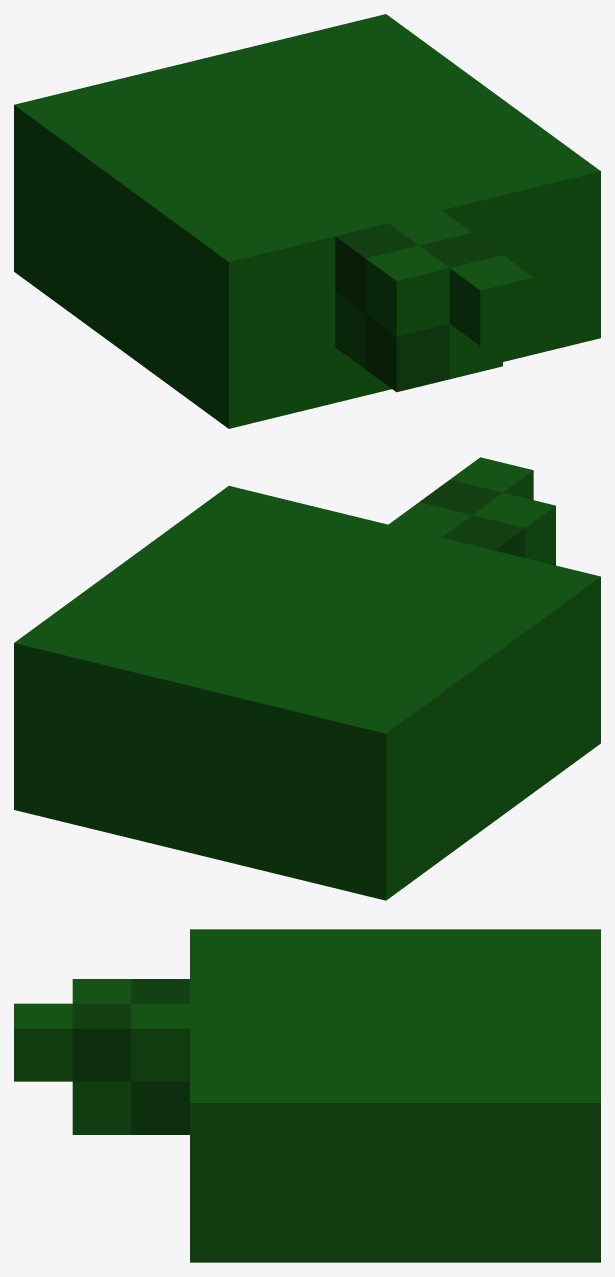
File: bandana.gltf
3 views of the same model, one above another, from view 1: azimuth 30°, elevation 25°; view 2: azimuth 150°, elevation 25°; view 3: azimuth 270°, elevation 25° (orthographic). The views are drawn at different scales.
Visible parts, largest first — view 1: Layer.1; view 2: Layer.1; view 3: Layer.1.
Part boxes in pixels (<box>): Layer.1: <box>14,14,600,428</box>; Layer.1: <box>14,457,600,900</box>; Layer.1: <box>14,929,600,1262</box>.
Bounding box in the file's own units: 7 × 3 × 10.
